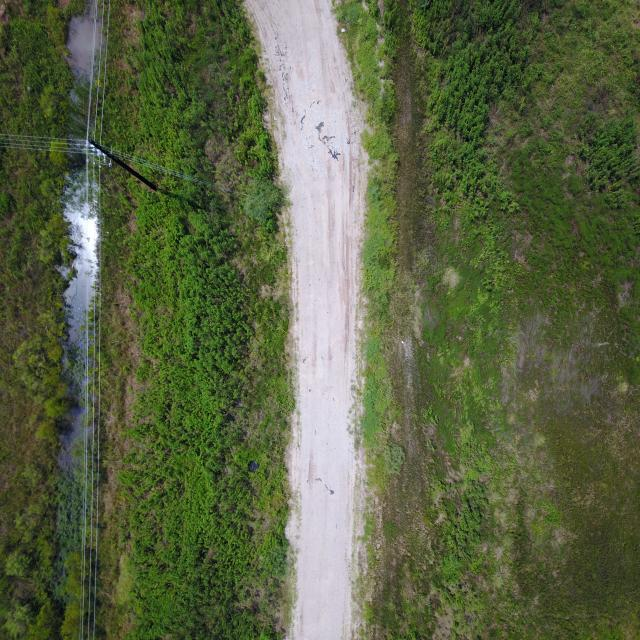fire: (56, 0, 110, 640)
